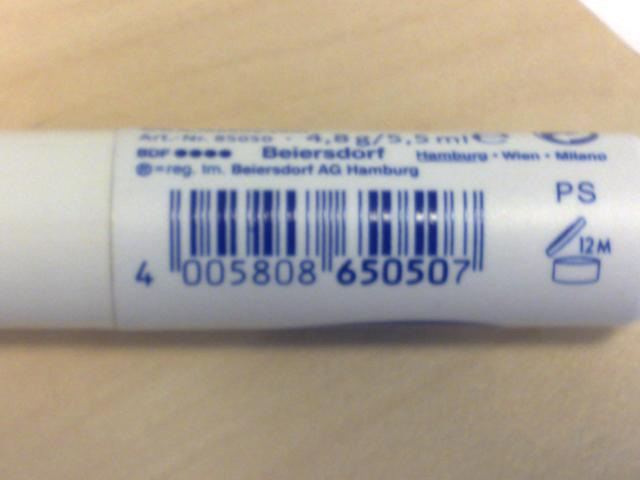Barkod: (162, 191, 483, 258)
